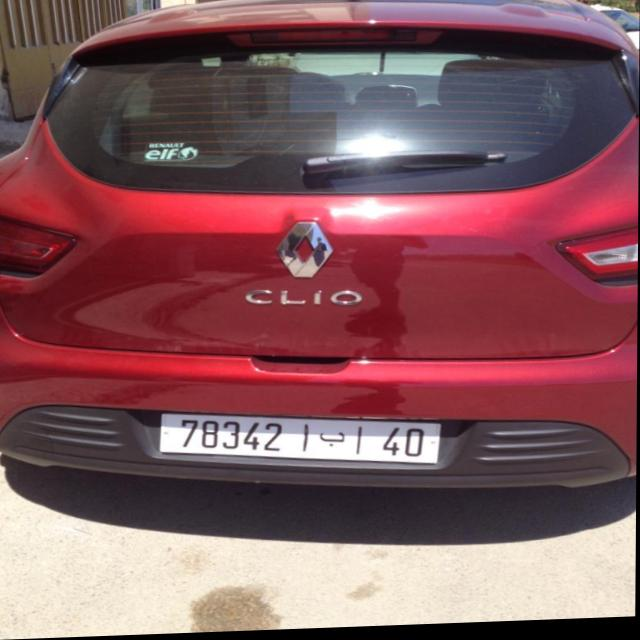License-Plate: (161, 414, 442, 467)
